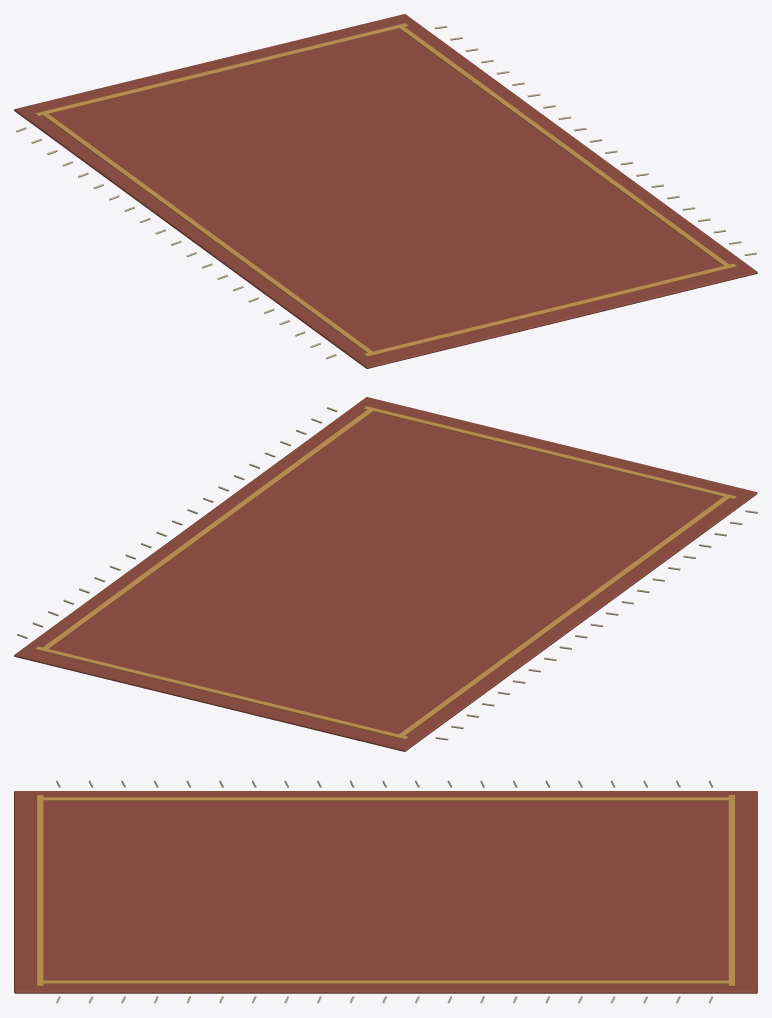
File: SM_CP_CrimeRug.fbx
3 views of the same model, one above another, from view 1: azimuth 30°, elevation 25°; view 2: azimuth 150°, elevation 25°; view 3: azimuth 270°, elevation 25° (orthographic). The views are drawn at different scales.
Parts seen in each view (by area): view 1: SM_CP_CrimeRug; view 2: SM_CP_CrimeRug; view 3: SM_CP_CrimeRug.
Part boxes in pixels (box(x1,y1,x2,y2)): SM_CP_CrimeRug: box(14, 14, 757, 368); SM_CP_CrimeRug: box(14, 397, 757, 751); SM_CP_CrimeRug: box(14, 780, 757, 1003).
Bounding box in the file's own units: 401 × 570 × 2.8.
